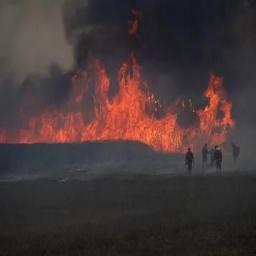Heavy smoke: (0, 0, 255, 132)
Medium fire: (0, 0, 237, 157)
